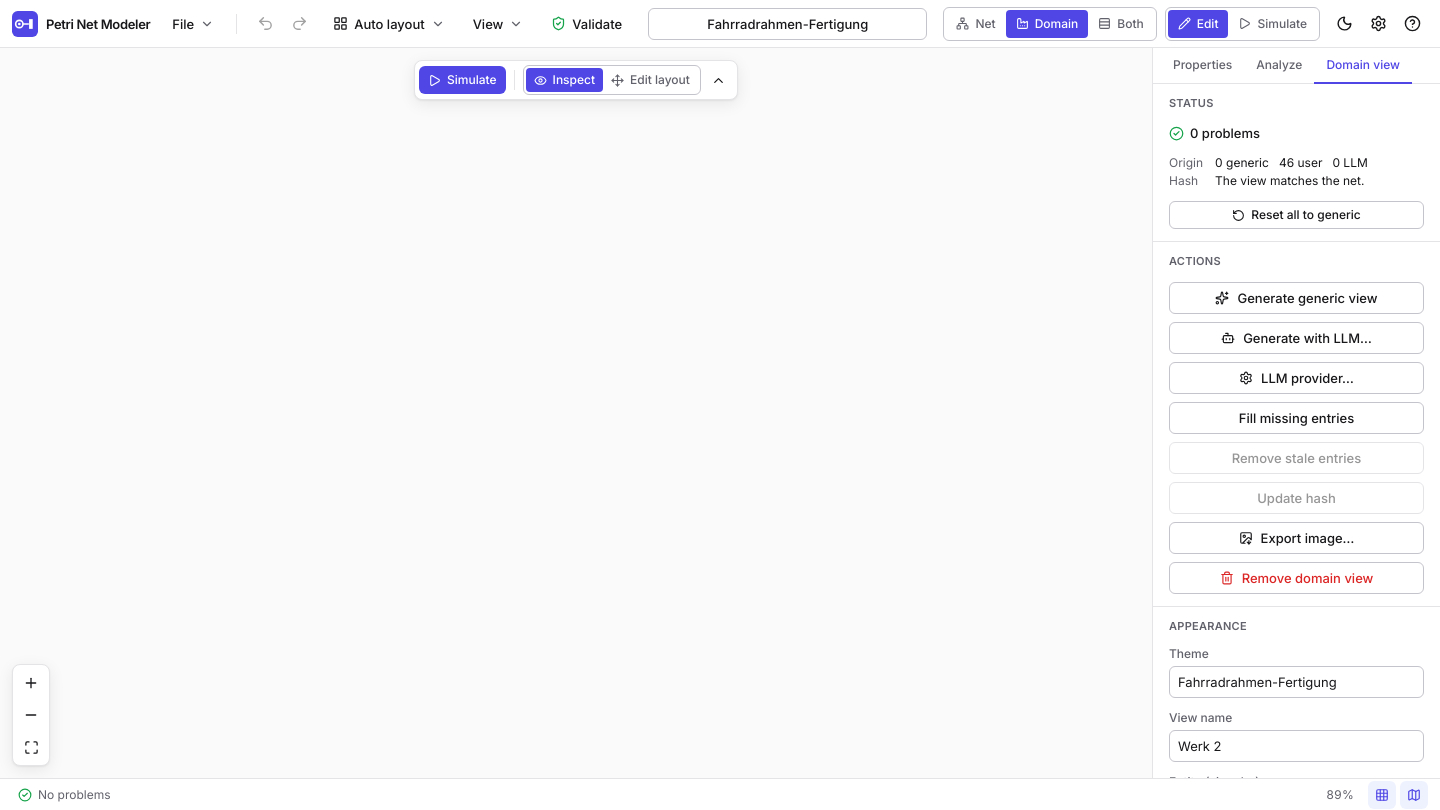
Test: the guided form (N4) › is prefilled from the view of the net if it has one
This screenshot has width=1440, height=810.
Click the button with test id "domain-generate-llm".
click(1296, 338)  # box [1169,322,1424,354]
(page scrolled)
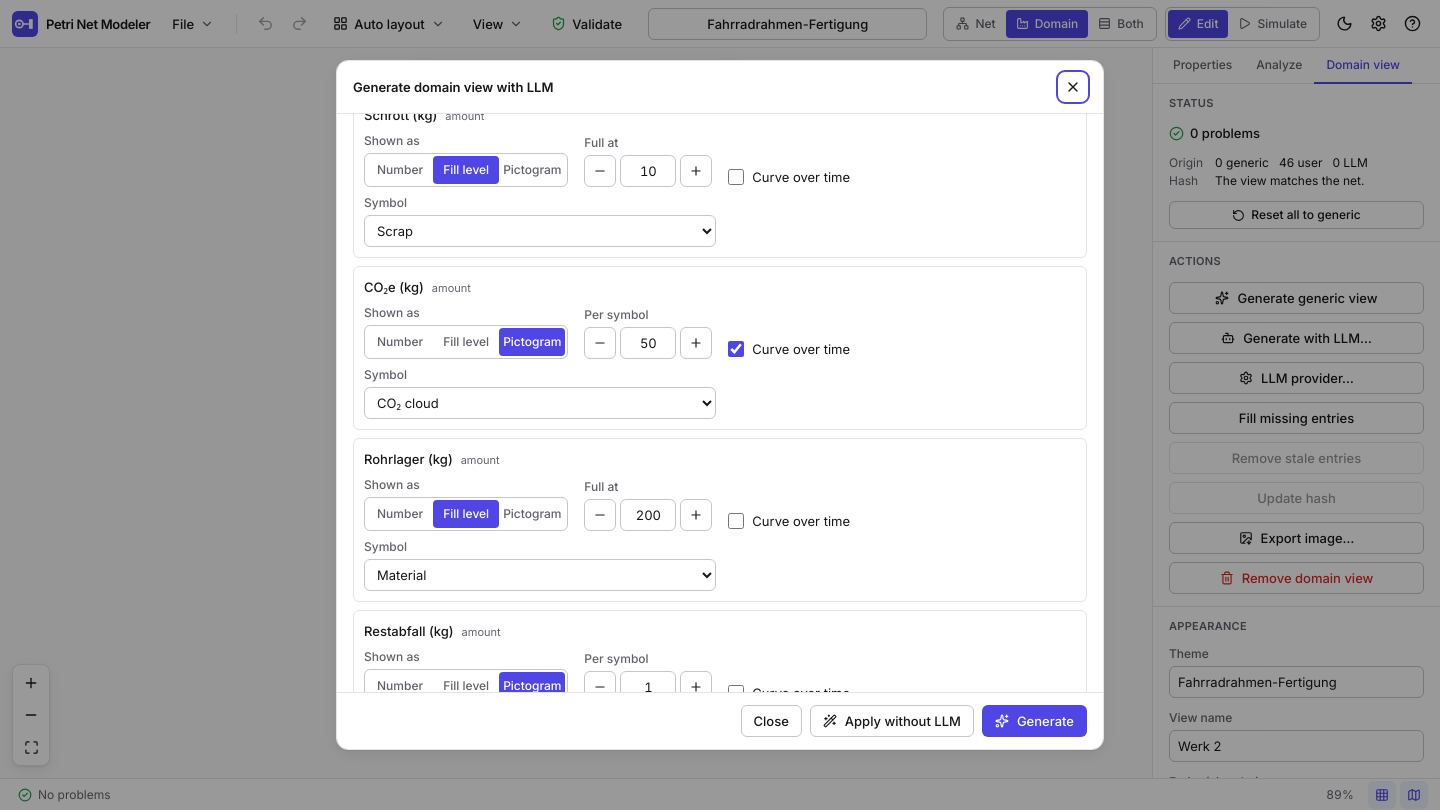
Check: the field with test id "guided-counter-p_tubes-max" holds "200", box [620,499,676,531]
Check: the field with test id "guided-counter-p_co2-per" holds "50", box [620,327,676,359]
Check: the dropdown with test id "guided-counter-p_co2-symbol" shows "CO₂ cloud", box [364,387,716,419]
